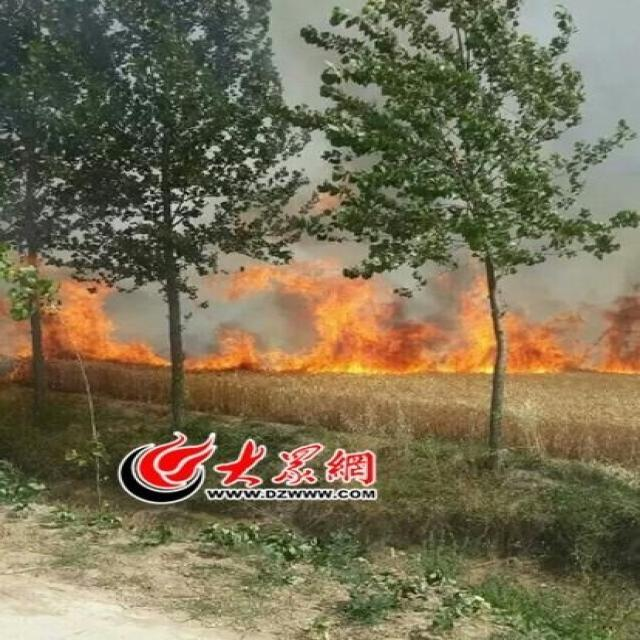Fire: (1, 259, 640, 376)
Smoke: (498, 0, 640, 314), (103, 280, 304, 352), (286, 127, 370, 257), (269, 1, 339, 114), (394, 257, 478, 321)
